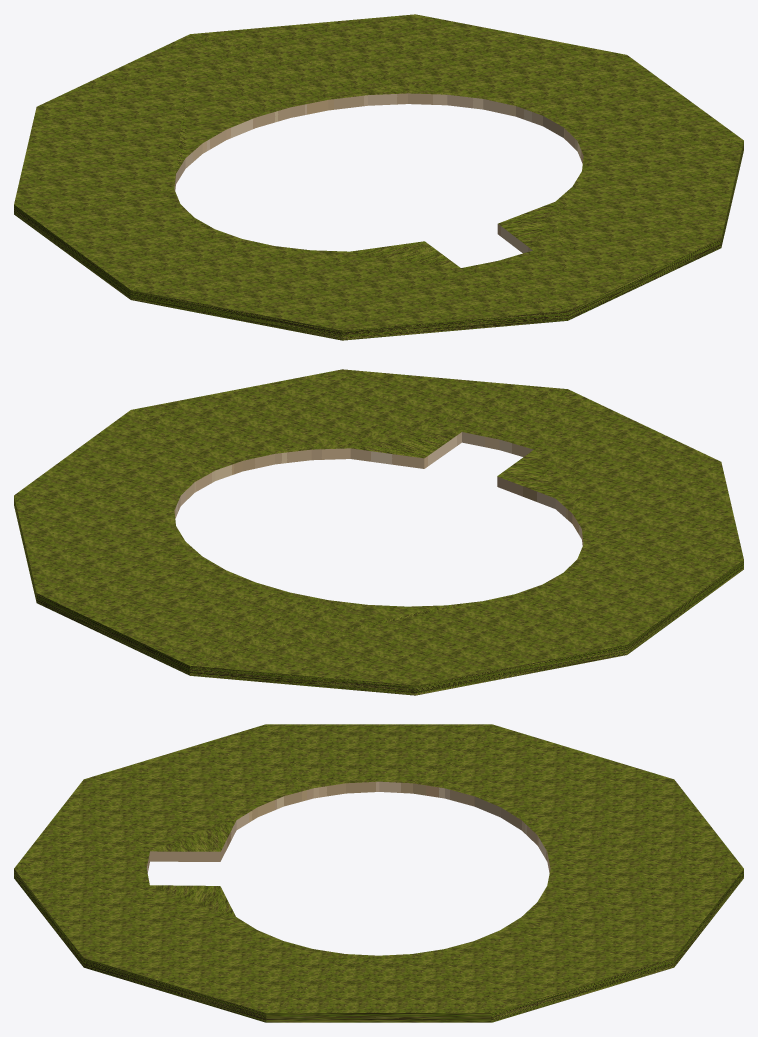
File: Wall.gltf
The picture shows the model from 3 angles, top to bottom: view 1: azimuth 30°, elevation 25°; view 2: azimuth 150°, elevation 25°; view 3: azimuth 270°, elevation 25°; orthographic projection. The views are drawn at different scales.
Visible parts, largest first — view 1: 円柱.002, 円柱; view 2: 円柱.002, 円柱; view 3: 円柱.002, 円柱.
Part boxes in pixels (box(x1,y1,x2,y2)): 円柱.002: box(14, 14, 743, 340); 円柱: box(174, 93, 583, 255); 円柱.002: box(14, 369, 743, 695); 円柱: box(174, 431, 583, 606); 円柱.002: box(14, 724, 743, 1022); 円柱: box(146, 781, 550, 955).
Size of the model in its own units: 89.92 by 1.53 by 96.
Materials: 2 (2 with a texture image).
